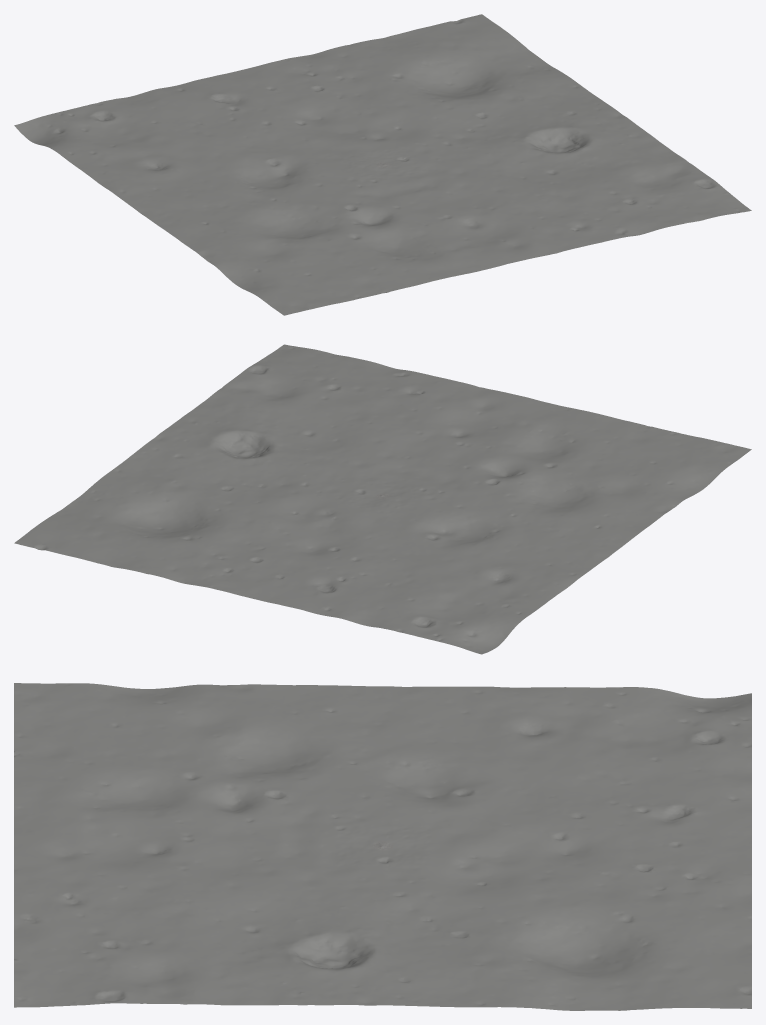
File: apollo-11.glb
3 renders of one model, top to bottom at view 1: azimuth 30°, elevation 25°; view 2: azimuth 150°, elevation 25°; view 3: azimuth 270°, elevation 25°, orthographic. The views are drawn at different scales.
Parts seen in each view (by area): view 1: Apollo 11 terrain; view 2: Apollo 11 terrain; view 3: Apollo 11 terrain.
Part boxes in pixels (x1,y1,x2,y2): Apollo 11 terrain: (14,14,751,315); Apollo 11 terrain: (14,344,751,654); Apollo 11 terrain: (14,683,751,1010).
Bounding box in the file's own units: 1600 × 55.2 × 1600.
Materials: 1 (1 with a texture image).
